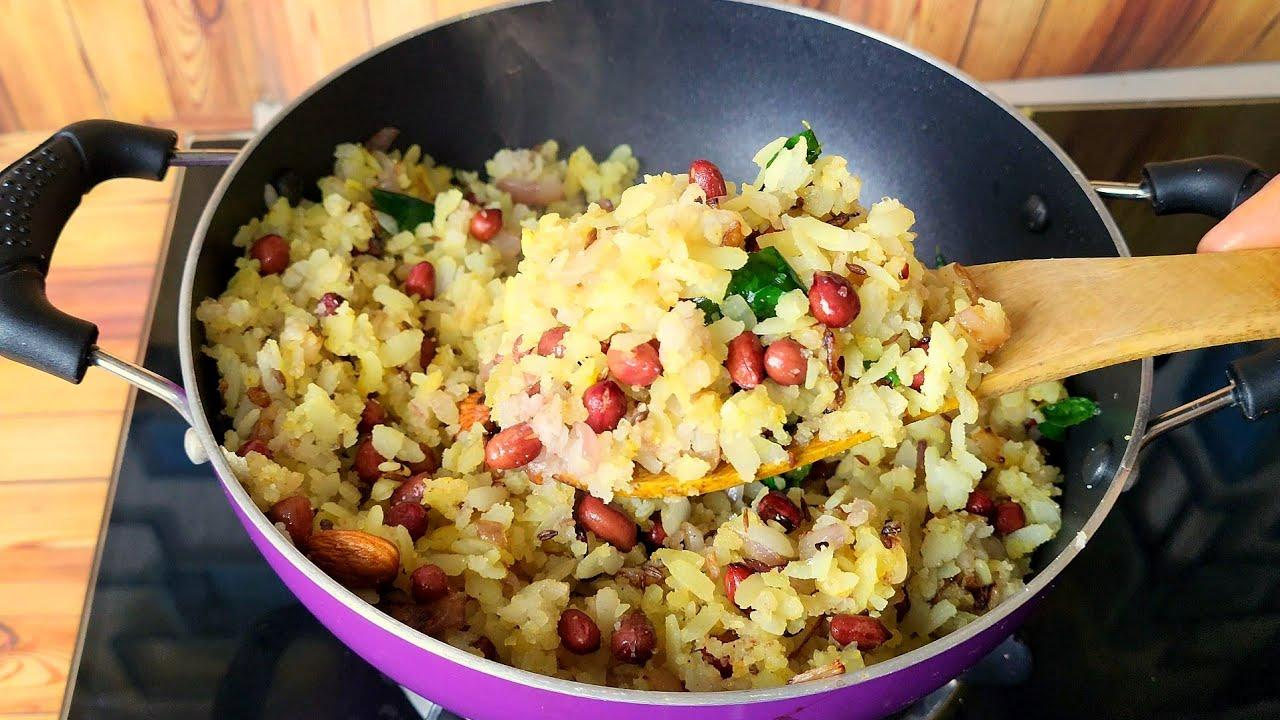poha: (197, 121, 1082, 699)
